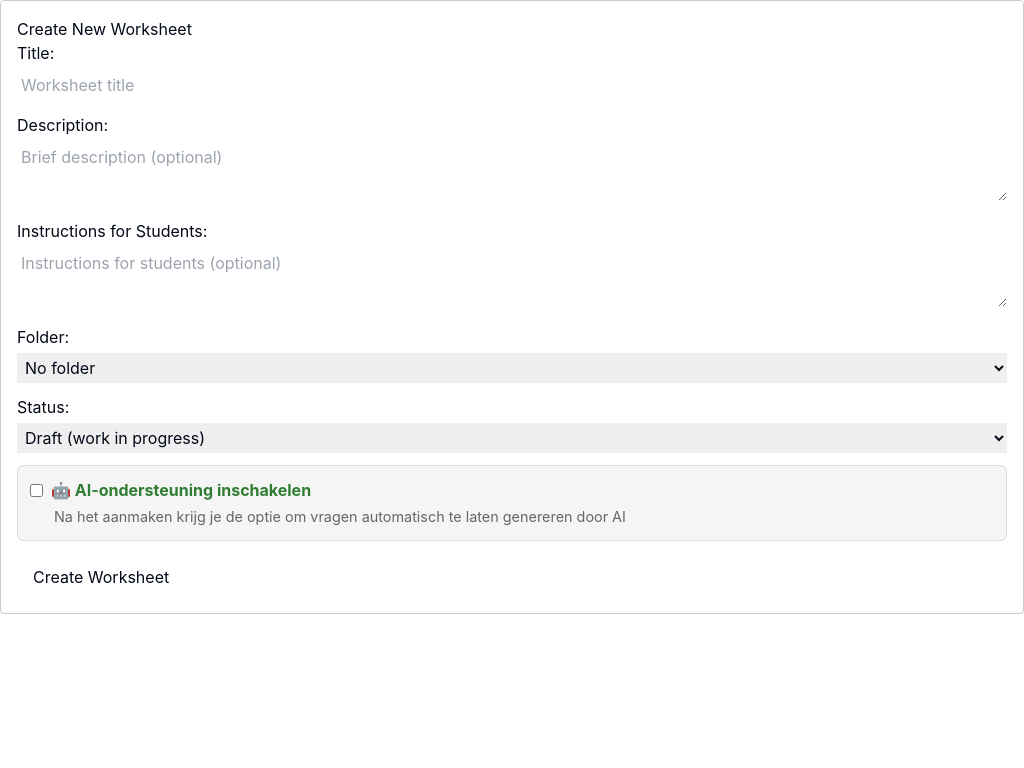
WorksheetCreateForm › shows error when user is not logged in
// Fill in the form
Type "Test Worksheet" into the field with placeholder "Worksheet title".
click(512, 85); type("Test Worksheet")  # box [17,69,1007,101]
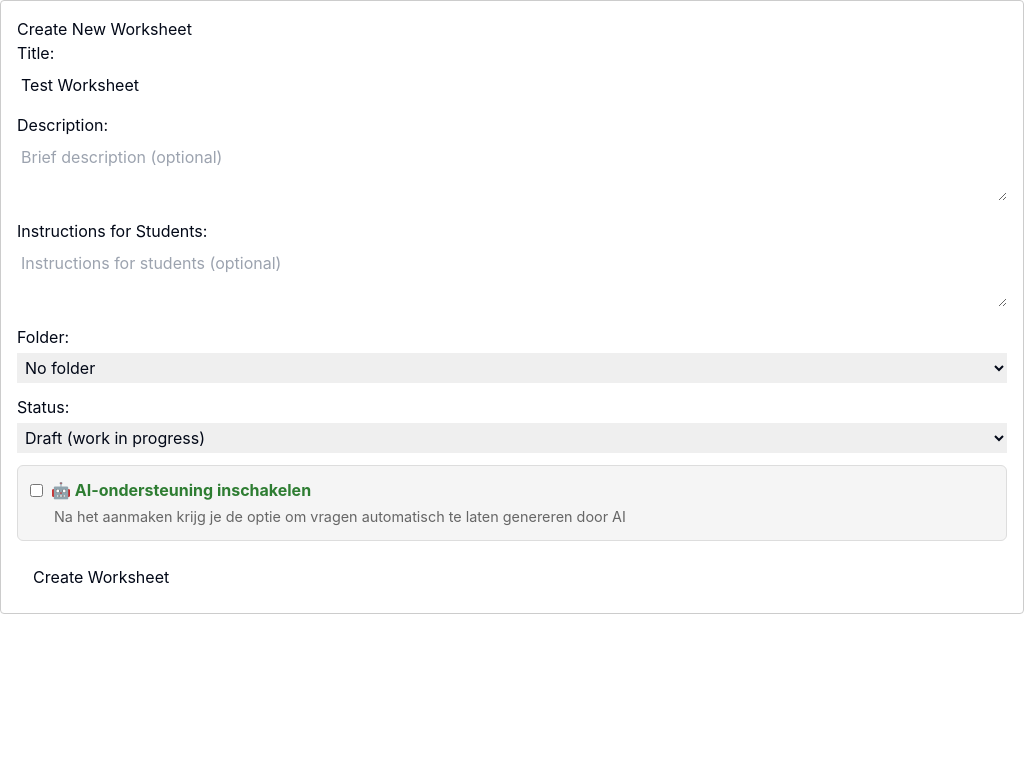
// Submit the form
Click the button "Create Worksheet".
click(101, 577)  # box [17,557,185,597]
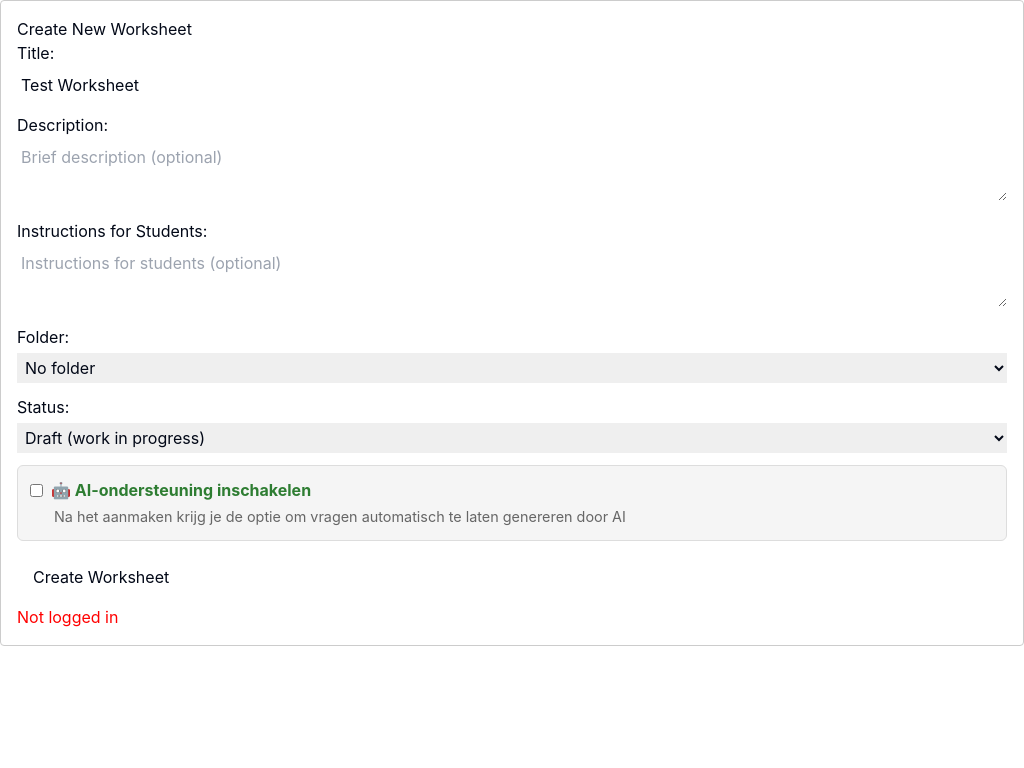
Expected: the text "Not logged in" is shown, [17,607,118,627]
